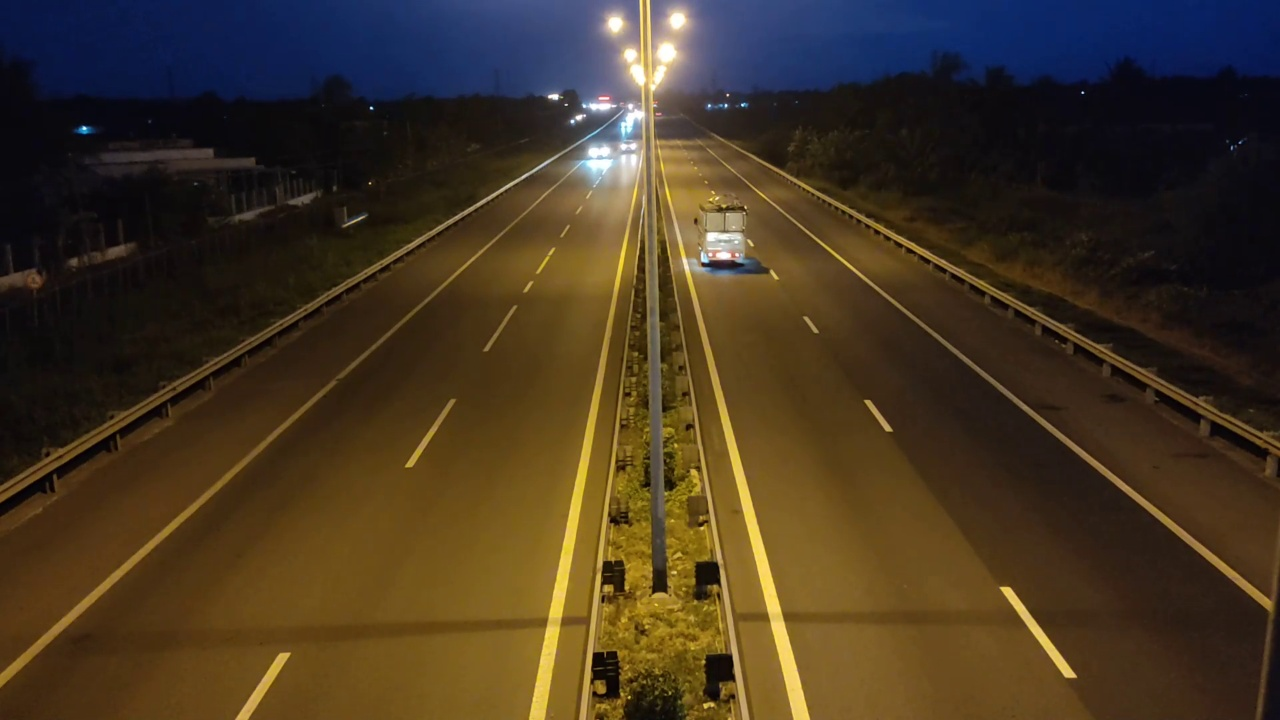truck: (693, 190, 757, 274)
